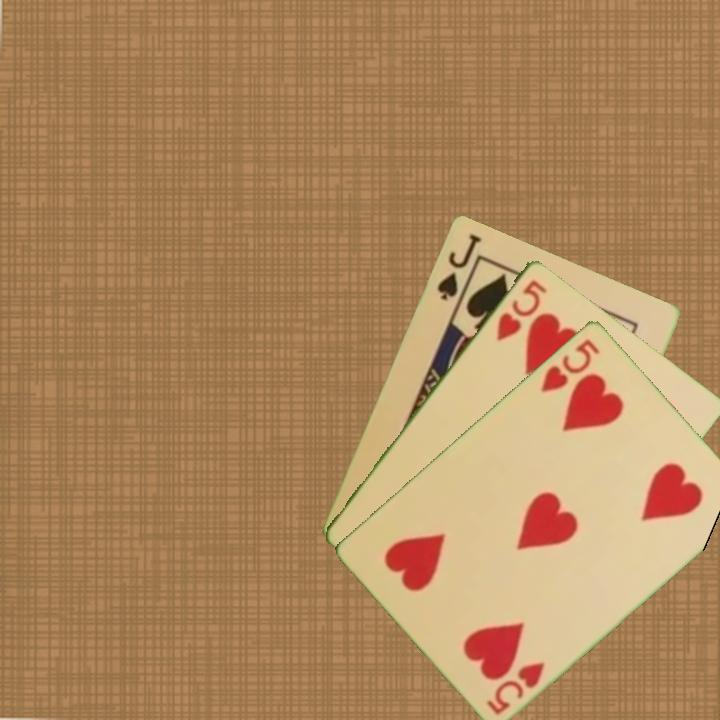5h: (537, 334, 603, 395), (483, 657, 549, 717), (492, 275, 550, 343)
Js: (433, 229, 484, 303)
